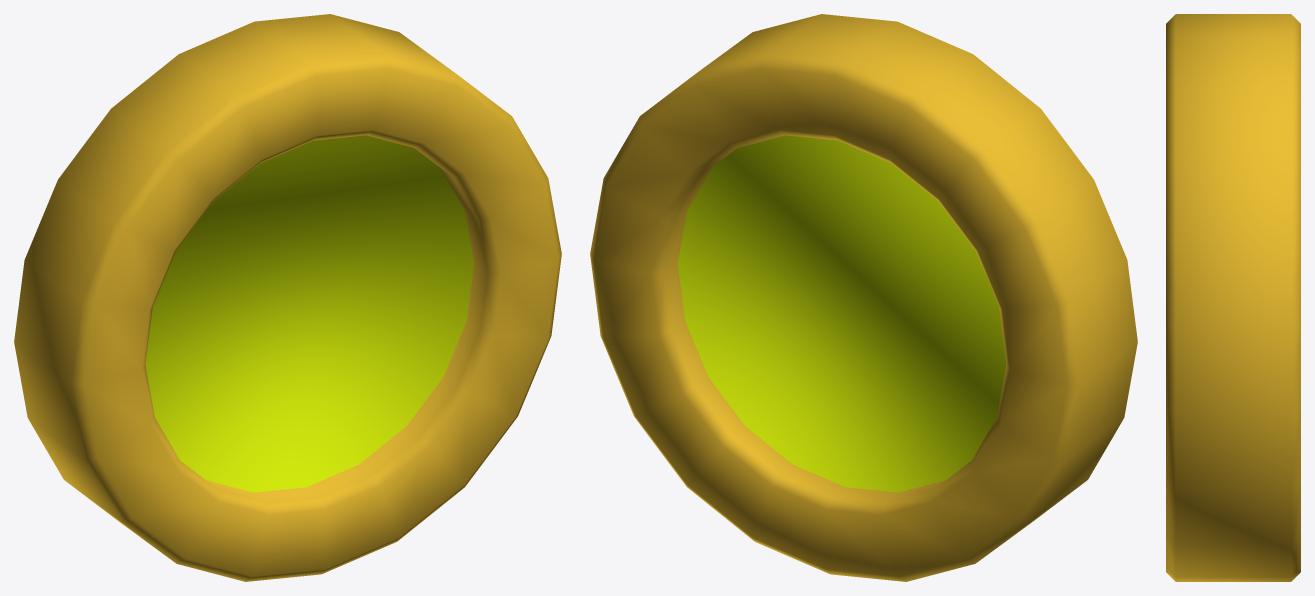
The model's file is star.glb.
The picture shows the model from 3 angles, left to right: view 1: azimuth 30°, elevation 25°; view 2: azimuth 150°, elevation 25°; view 3: azimuth 270°, elevation 25°; orthographic projection.
Parts seen in each view (by area): view 1: Coin; view 2: Coin; view 3: Coin.
Boxes of the visible parts, bbox=[...] form: Coin: bbox=[14, 14, 561, 581]; Coin: bbox=[590, 14, 1137, 581]; Coin: bbox=[1166, 14, 1300, 581].
Size of the model in its own units: 1.49 by 1.49 by 0.3522.
